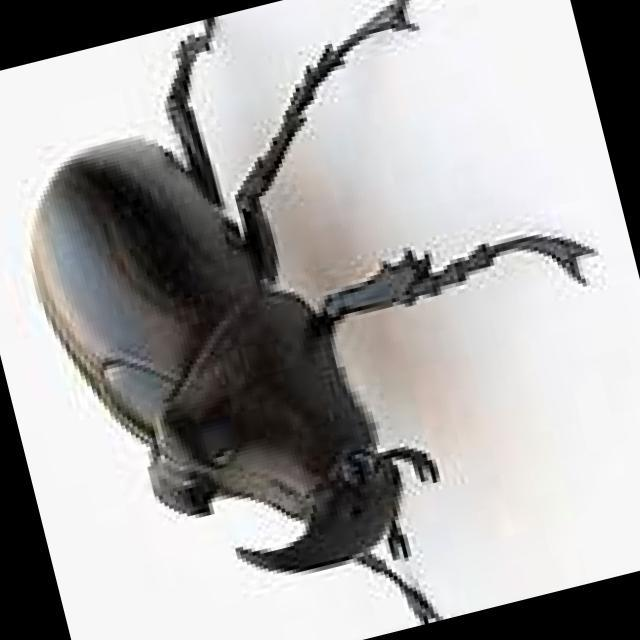Rhino-beetle: (24, 118, 549, 628)
